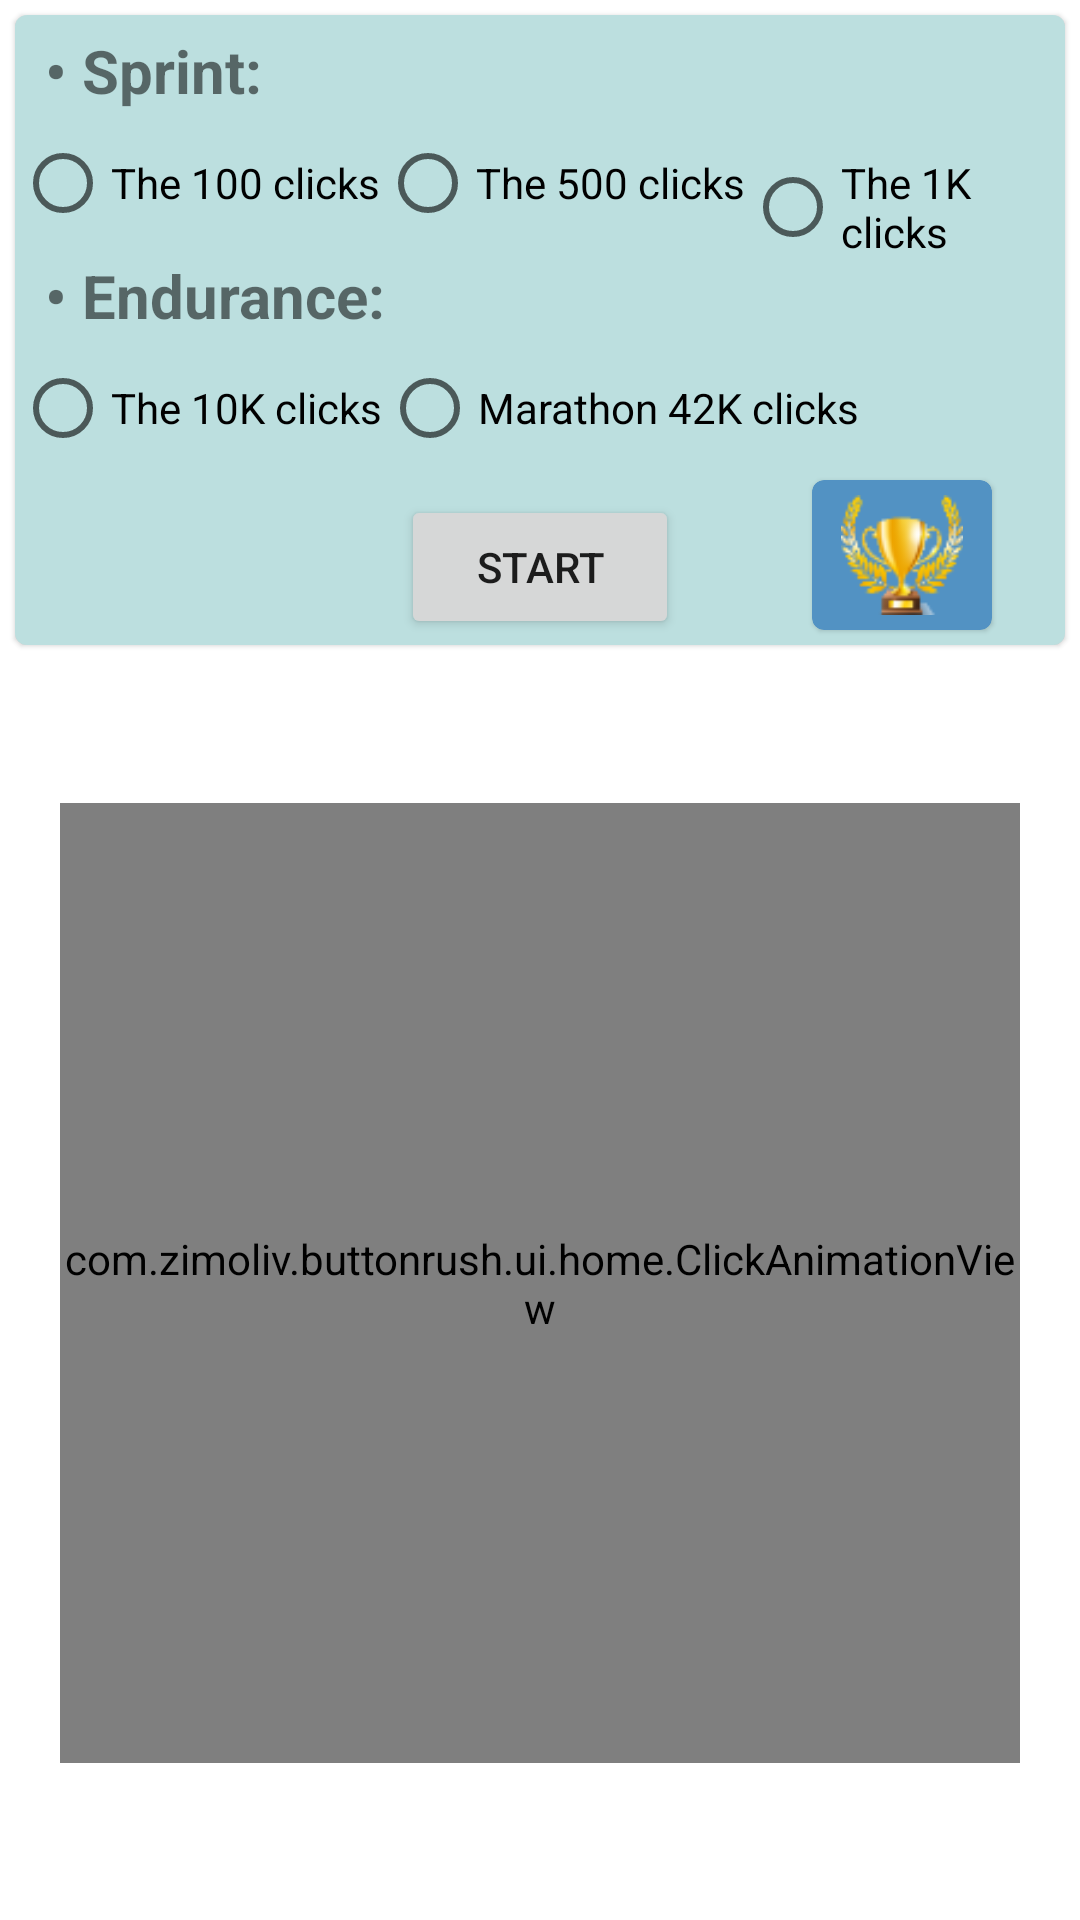

Named icons in this screenshot (1080x1920) and their centers, point (x, y):
trophy: point (902, 555)
